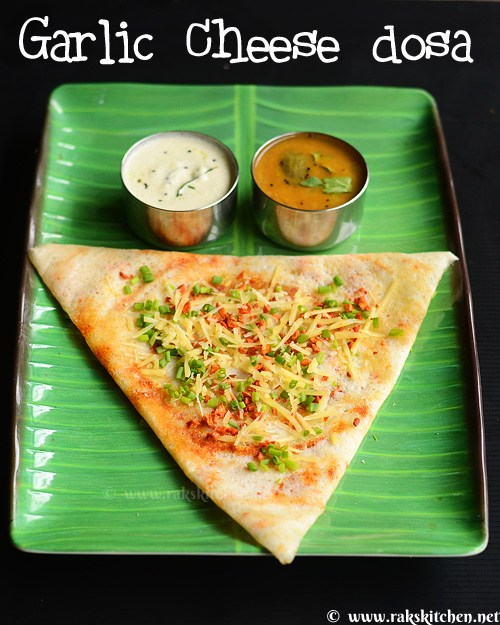dosa: (11, 242, 499, 569)
